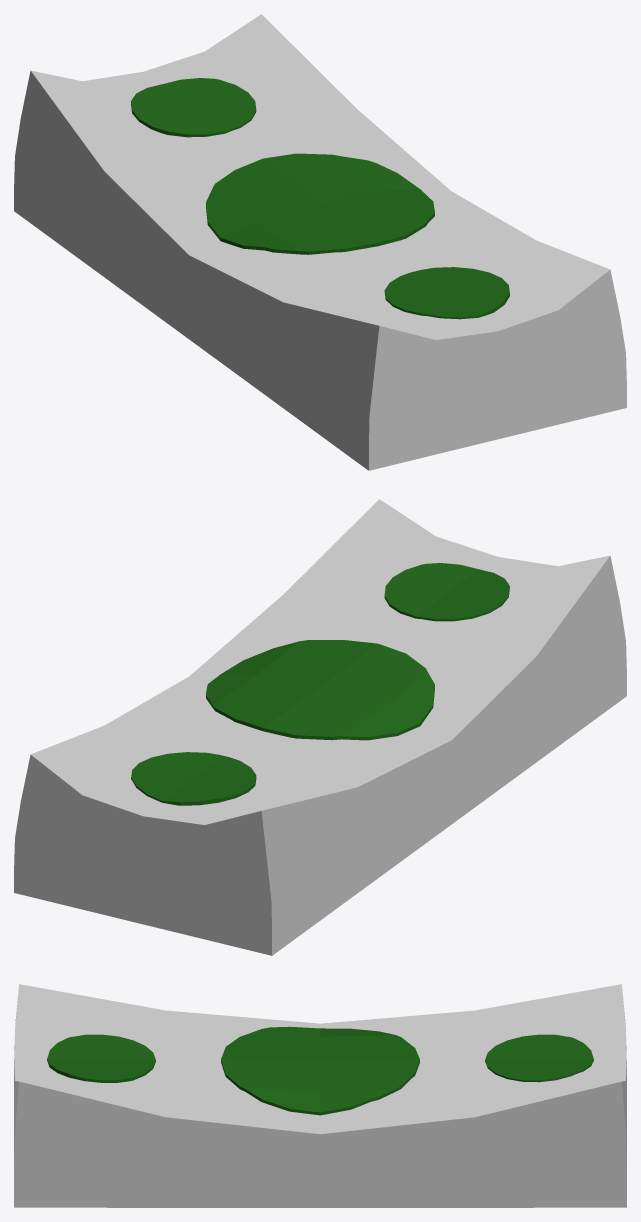
File: FinishStageMoney.fbx
The picture shows the model from 3 angles, top to bottom: view 1: azimuth 30°, elevation 25°; view 2: azimuth 150°, elevation 25°; view 3: azimuth 270°, elevation 25°; orthographic projection. The views are drawn at different scales.
Parts seen in each view (by area): view 1: Cube, Cube.003, Cube.005; view 2: Cube, Cube.003, Cube.005; view 3: Cube, Cube.003, Cube.005.
Part boxes in pixels (left/top/right/bottom): Cube: left=14, top=14, right=626, bottom=470; Cube.003: left=206, top=153, right=434, bottom=254; Cube.005: left=131, top=78, right=509, bottom=319; Cube: left=14, top=499, right=626, bottom=955; Cube.003: left=206, top=640, right=434, bottom=740; Cube.005: left=131, top=563, right=509, bottom=805; Cube: left=14, top=984, right=626, bottom=1207; Cube.003: left=221, top=1026, right=419, bottom=1115; Cube.005: left=47, top=1034, right=593, bottom=1082.
Size of the model in its own units: 203 by 103 by 476.
